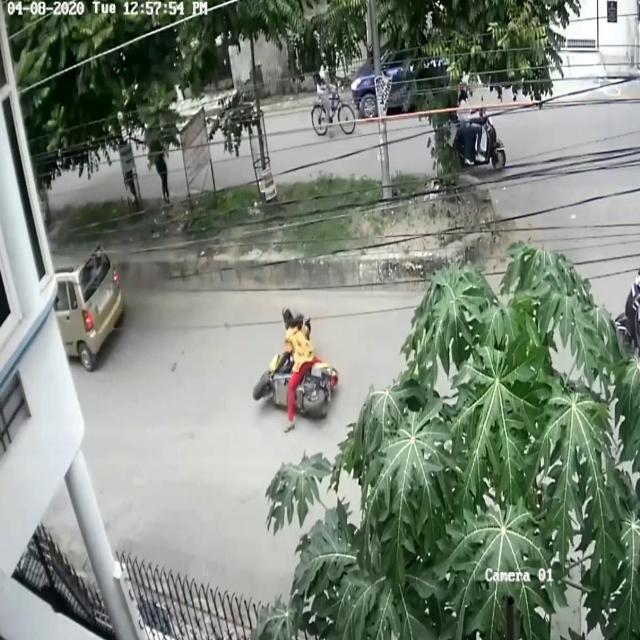accident: (248, 293, 343, 444)
